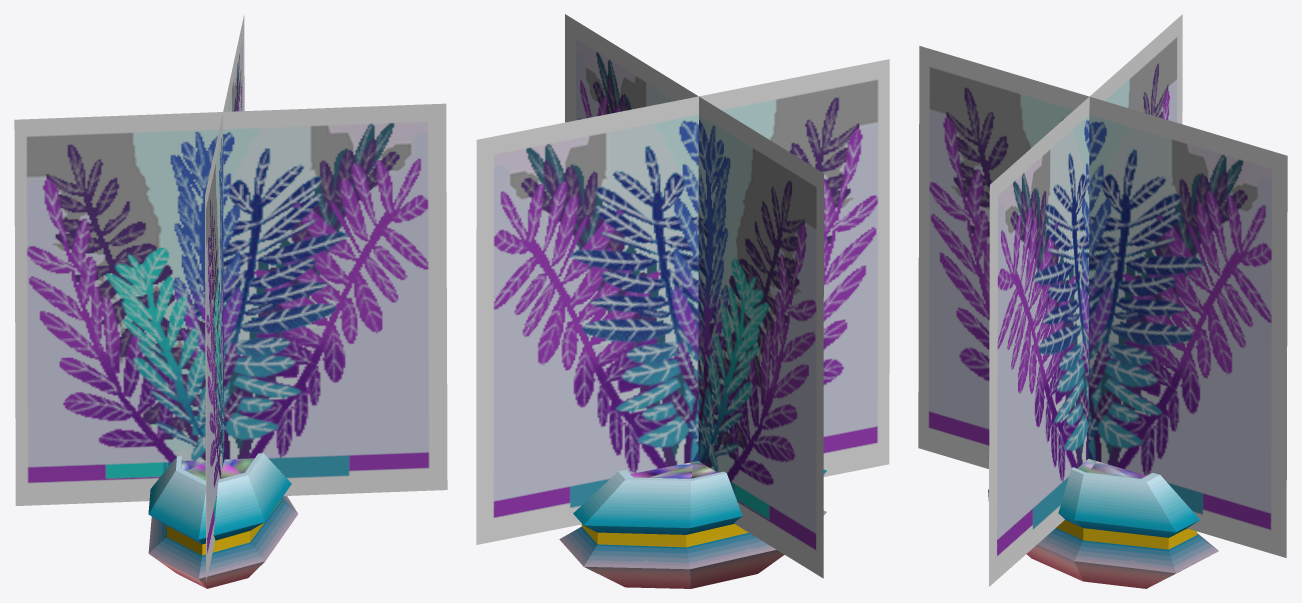
File: Structure_Retro_Pot_04_Art.fbx
3 views of the same model, side by side, from view 1: azimuth 30°, elevation 25°; view 2: azimuth 150°, elevation 25°; view 3: azimuth 270°, elevation 25° (orthographic). The views are drawn at different scales.
Visible parts, largest first — view 1: Structure_Retro_Plants_04, Structure_Retro_Plants_05, Structure_Retro_Pot_04_Art; view 2: Structure_Retro_Plants_04, Structure_Retro_Plants_05, Structure_Retro_Pot_04_Art; view 3: Structure_Retro_Plants_04, Structure_Retro_Plants_05, Structure_Retro_Pot_04_Art.
Part boxes in pixels (left/top/right/bottom): Structure_Retro_Plants_04: left=14, top=15, right=447, bottom=580; Structure_Retro_Plants_05: left=14, top=18, right=447, bottom=556; Structure_Retro_Pot_04_Art: left=148, top=453, right=297, bottom=588; Structure_Retro_Plants_04: left=476, top=14, right=889, bottom=578; Structure_Retro_Plants_05: left=476, top=16, right=889, bottom=572; Structure_Retro_Pot_04_Art: left=559, top=461, right=826, bottom=588; Structure_Retro_Plants_04: left=918, top=14, right=1287, bottom=586; Structure_Retro_Plants_05: left=919, top=15, right=1287, bottom=584; Structure_Retro_Pot_04_Art: left=988, top=457, right=1218, bottom=588.
Size of the model in its own units: 168 by 211 by 152.
